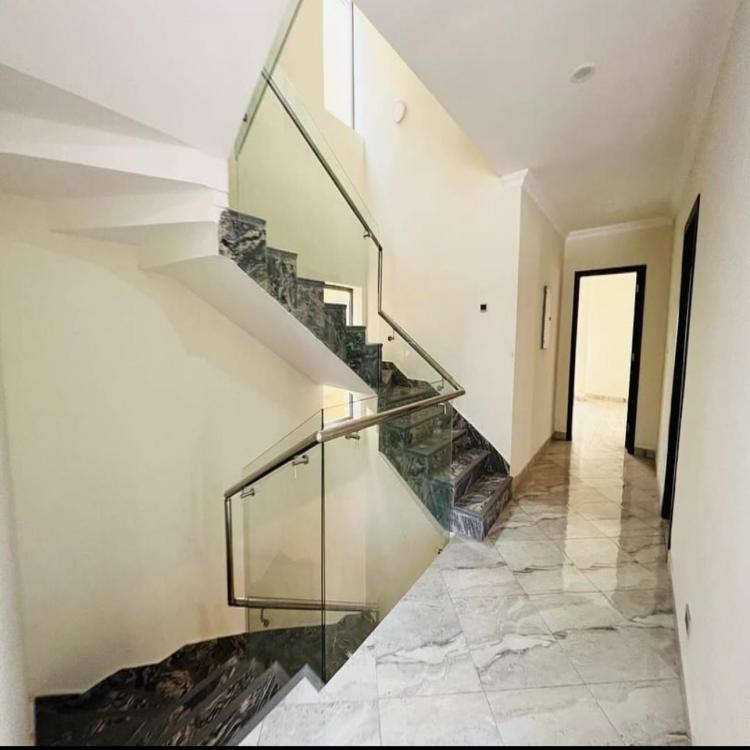OpenDoor: (564, 266, 639, 456)
